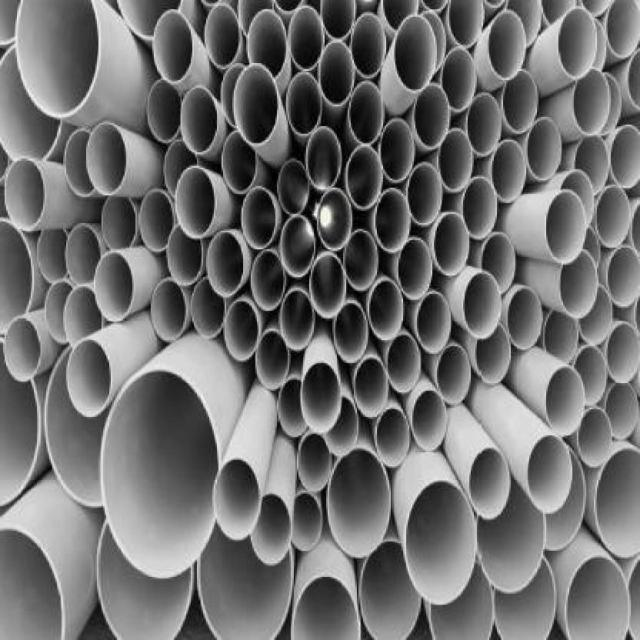pipe: (99, 368, 219, 577), (96, 519, 193, 639), (195, 522, 294, 639), (43, 345, 106, 510), (15, 0, 102, 117), (406, 480, 477, 605), (477, 476, 546, 596), (0, 520, 66, 640), (326, 447, 391, 558), (359, 537, 422, 639), (1, 359, 43, 510), (565, 556, 632, 638), (493, 556, 558, 638), (594, 447, 639, 558), (291, 574, 360, 639), (2, 216, 38, 336), (213, 459, 261, 541), (233, 64, 278, 146), (66, 338, 111, 419), (527, 435, 572, 512), (394, 15, 437, 92), (4, 157, 46, 232), (175, 165, 217, 239), (469, 448, 511, 521), (251, 493, 292, 566), (300, 362, 342, 433), (546, 190, 586, 264), (86, 119, 126, 193), (153, 10, 193, 83), (559, 6, 598, 79), (94, 251, 134, 321), (247, 8, 286, 78), (546, 367, 586, 435), (488, 10, 526, 81), (559, 250, 598, 318), (463, 272, 501, 340), (180, 86, 217, 154), (4, 315, 41, 382), (207, 231, 244, 297), (573, 69, 610, 135), (318, 40, 354, 107), (288, 6, 325, 71), (440, 47, 477, 112), (413, 83, 450, 148), (379, 118, 416, 183), (205, 4, 240, 71), (351, 12, 386, 79), (502, 69, 538, 134), (287, 72, 323, 137), (526, 117, 562, 182), (346, 146, 383, 209), (279, 216, 316, 278), (375, 188, 410, 253), (311, 254, 346, 319), (595, 186, 631, 249), (434, 213, 470, 276), (480, 232, 516, 295), (151, 279, 187, 342), (416, 291, 452, 354), (466, 93, 502, 156), (306, 126, 342, 189), (221, 130, 257, 193), (491, 139, 527, 202), (64, 128, 97, 196), (461, 177, 497, 239), (508, 288, 544, 350), (333, 302, 369, 364), (411, 389, 447, 451), (64, 286, 103, 343), (407, 163, 442, 226), (317, 189, 352, 252), (140, 189, 175, 252), (437, 129, 472, 192), (65, 224, 101, 285), (348, 83, 384, 144), (224, 301, 260, 361), (572, 346, 608, 406), (242, 187, 276, 250), (398, 237, 432, 300), (148, 79, 182, 142), (167, 225, 202, 286), (574, 136, 610, 195), (192, 278, 226, 340), (369, 279, 403, 341), (605, 321, 639, 383), (354, 357, 388, 419), (325, 396, 359, 458), (386, 333, 421, 393), (375, 407, 410, 467), (577, 409, 613, 467), (606, 247, 639, 310), (345, 231, 379, 292), (252, 251, 286, 312), (579, 286, 613, 347), (280, 290, 314, 351), (255, 330, 289, 391), (164, 139, 199, 198), (560, 169, 594, 229), (476, 326, 511, 384), (436, 345, 471, 403), (101, 195, 137, 251), (298, 433, 332, 492), (610, 125, 640, 190), (278, 158, 311, 217), (45, 279, 74, 346), (606, 0, 638, 60), (543, 310, 579, 363), (292, 491, 323, 552), (605, 383, 638, 440), (278, 378, 309, 436), (37, 231, 70, 284), (448, 0, 483, 46), (319, 0, 358, 40)
